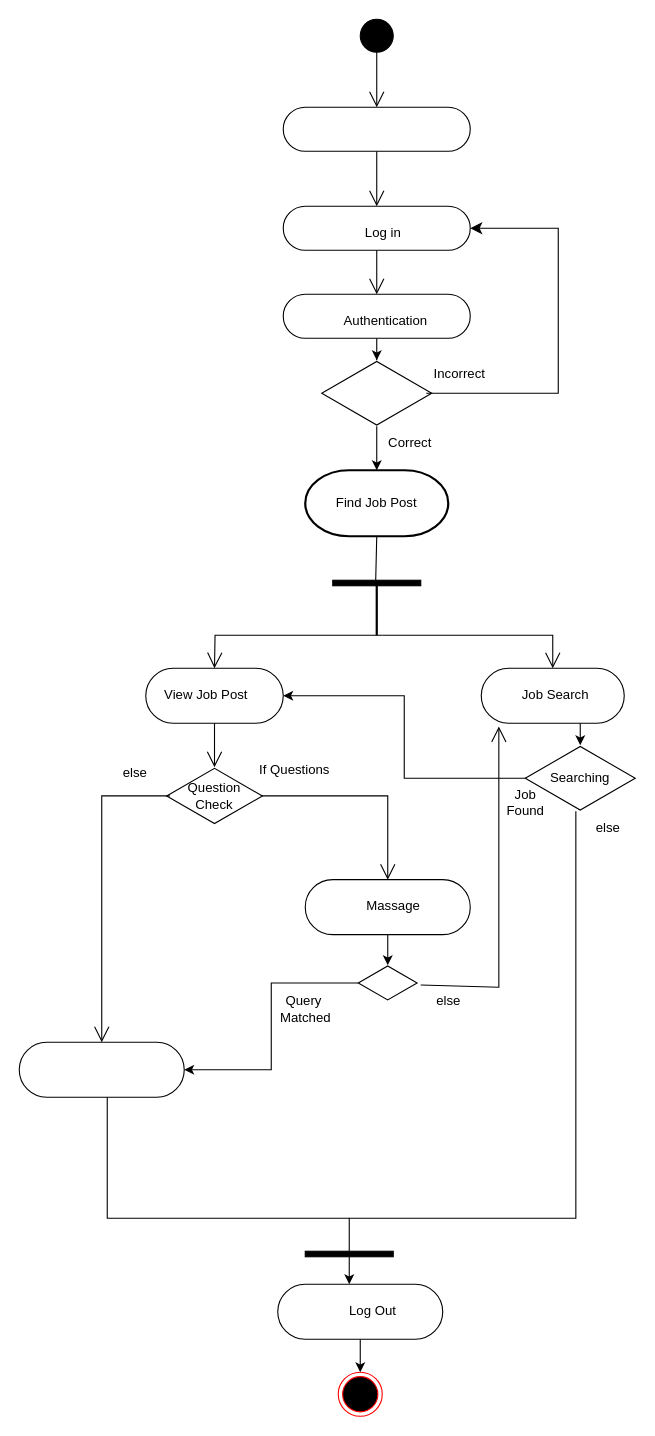
Some shapes in this 655 by 1436 pixel diagram are drawn without their labels. The shapes that lost their labels are listed below. From the top down, each one's centre as x and y in pixels, then its label:
At point (376, 128): "Registration".
At point (376, 392): "Check".
At point (387, 982): "Query".
At point (101, 1069): "Drop Resume".
